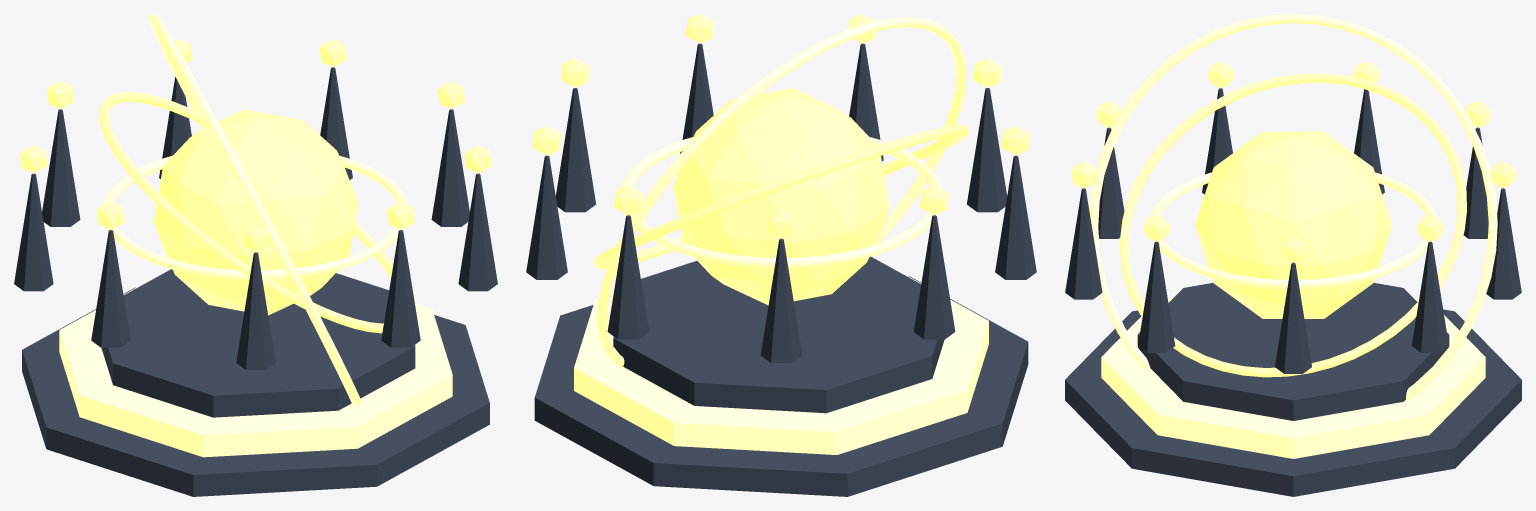
The model's file is gpu-blender-v46.glb.
3 renders of one model, left to right at view 1: azimuth 30°, elevation 25°; view 2: azimuth 150°, elevation 25°; view 3: azimuth 270°, elevation 25°, orthographic. The views are drawn at different scales.
Parts seen in each view (by area): view 1: Cylinder.002, SovereignCore_yara-sigma-forge, Cylinder, Cylinder.001, Torus.001, Torus.002, Torus, Cone.004, Cone.008, Cone.005, Cone.007, Cone.006 (+12 smaller); view 2: Cylinder.002, SovereignCore_yara-sigma-forge, Cylinder, Cylinder.001, Torus.002, Torus.001, Torus, Cone.002, Cone.004, Cone, Cone.001, Cone.005 (+12 smaller); view 3: SovereignCore_yara-sigma-forge, Cylinder.002, Cylinder, Cylinder.001, Torus.002, Torus.001, Torus, Cone.007, Cone.001, Cone.008, Cone, Cone.002 (+10 smaller).
Boxes of the visible parts, box(x1,y1,x2,y2) form: Cylinder.002: box(101, 269, 415, 417); SovereignCore_yara-sigma-forge: box(153, 109, 358, 315); Cylinder: box(22, 287, 489, 496); Cylinder.001: box(59, 277, 452, 457); Torus.001: box(99, 92, 393, 333); Torus.002: box(149, 14, 361, 405); Torus: box(103, 155, 408, 279); Cone.004: box(14, 173, 53, 291); Cone.008: box(458, 173, 497, 291); Cone.005: box(91, 230, 130, 347); Cone.007: box(381, 230, 420, 347); Cone.006: box(236, 252, 275, 369); Cylinder.002: box(613, 256, 944, 413); SovereignCore_yara-sigma-forge: box(673, 88, 889, 305); Cylinder: box(534, 276, 1028, 496); Cylinder.001: box(574, 265, 988, 454); Torus.002: box(596, 17, 966, 367); Torus.001: box(594, 124, 968, 269); Torus: box(621, 137, 942, 268); Cone.002: box(607, 215, 649, 339); Cone.004: box(913, 215, 955, 339); Cone: box(555, 88, 596, 212); Cone.001: box(526, 155, 567, 279); Cone.005: box(995, 155, 1036, 279); SovereignCore_yara-sigma-forge: box(1195, 131, 1391, 318); Cylinder.002: box(1137, 282, 1449, 420); Cylinder: box(1065, 309, 1521, 496); Cylinder.001: box(1101, 296, 1485, 458); Torus.002: box(1090, 14, 1497, 400); Torus.001: box(1120, 73, 1466, 377); Torus: box(1150, 172, 1436, 288); Cone.007: box(1065, 188, 1102, 299); Cone.001: box(1411, 241, 1448, 352); Cone.008: box(1138, 241, 1175, 352); Cone: box(1275, 262, 1311, 373); Cone.002: box(1486, 188, 1521, 299).
Size of the model in its own units: 4.41 by 3.72 by 4.4.
